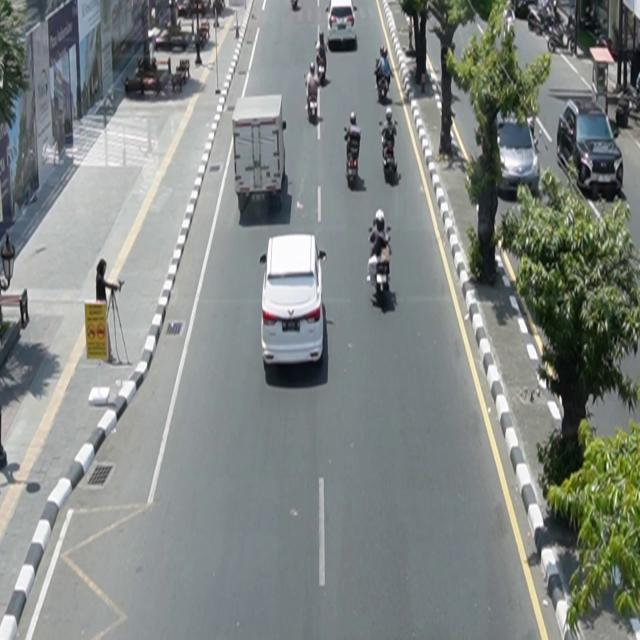car: (260, 233, 328, 370)
truck: (233, 94, 287, 214)
